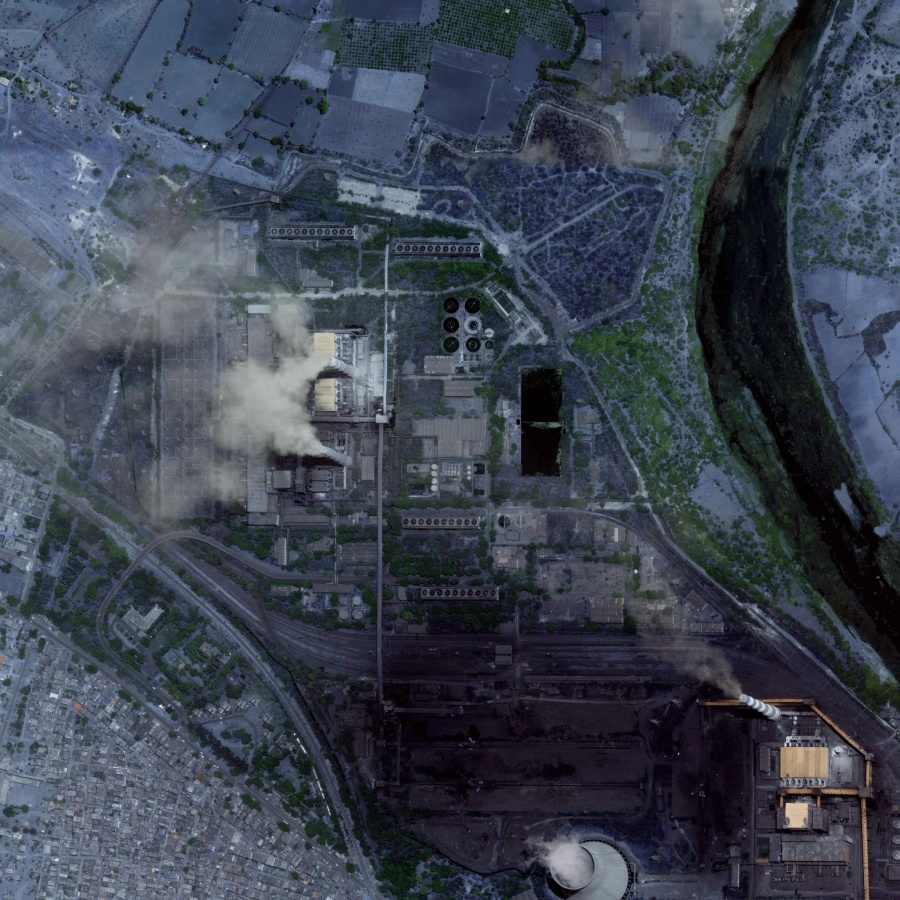PowerPlant: (163, 217, 435, 537)
